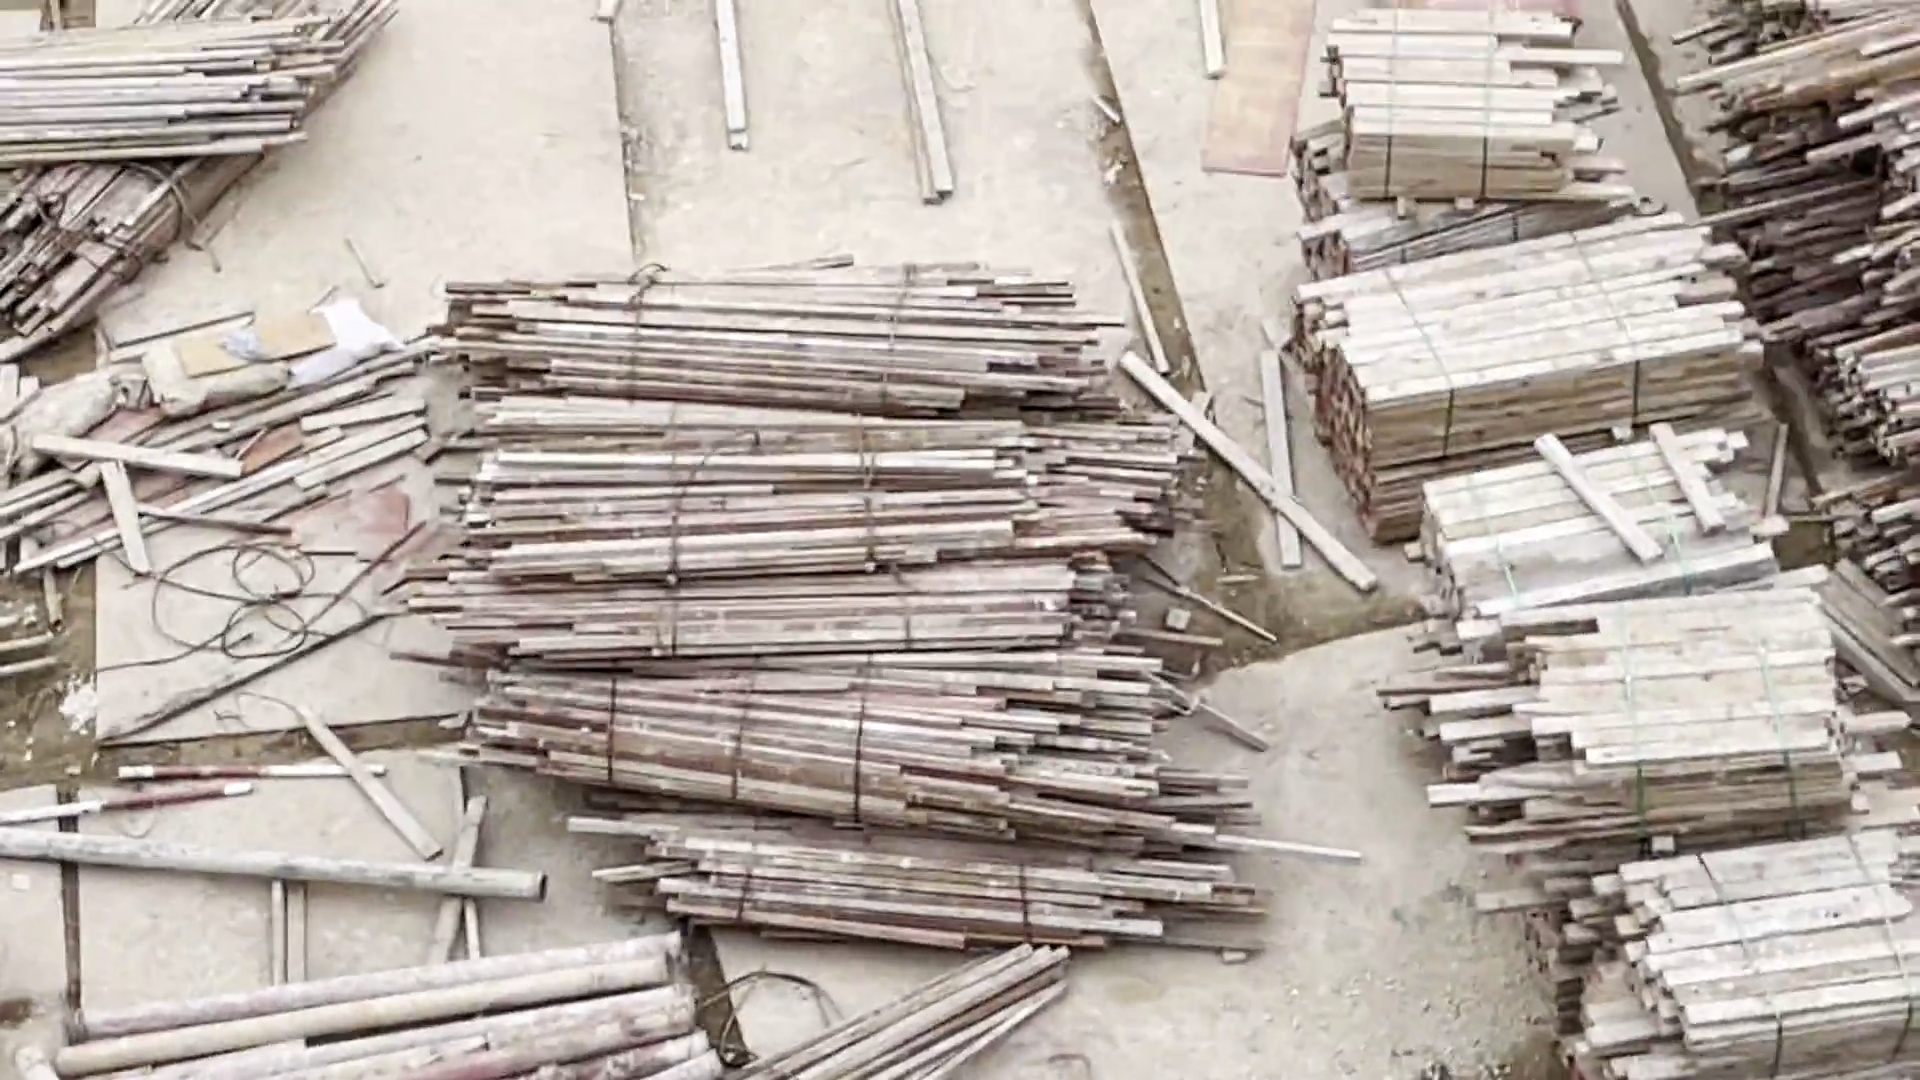scaffold: (1, 1, 297, 200)
wood: (436, 268, 1284, 951), (1300, 232, 1768, 464), (1435, 632, 1884, 856), (1531, 840, 1917, 1080), (1385, 465, 1813, 622), (1317, 21, 1644, 214)
